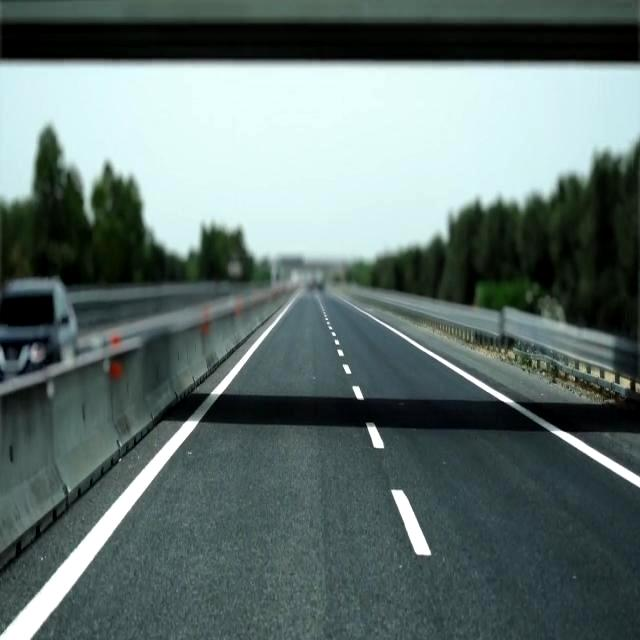lane: (0, 291, 301, 640), (341, 298, 640, 488), (392, 489, 430, 556), (367, 422, 384, 448), (354, 385, 364, 399)
road: (33, 291, 639, 639), (0, 329, 262, 629), (372, 310, 639, 474)
